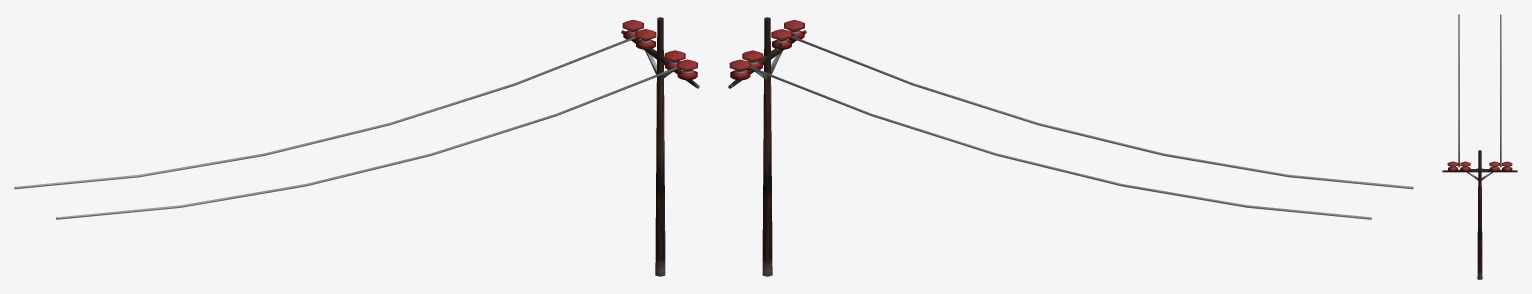
File: Pylon1.glb
The picture shows the model from 3 angles, left to right: view 1: azimuth 30°, elevation 25°; view 2: azimuth 150°, elevation 25°; view 3: azimuth 270°, elevation 25°; orthographic projection. The views are drawn at different scales.
Visible parts, largest first — view 1: PYLON1; view 2: PYLON1; view 3: PYLON1.
Boxes of the visible parts, x1,y1,x2,y2 form: PYLON1: (14, 17, 699, 276); PYLON1: (728, 17, 1413, 276); PYLON1: (1442, 14, 1517, 279).
Size of the model in its own units: 20.24 by 7.78 by 4.17.
1 material, 1 textured.
